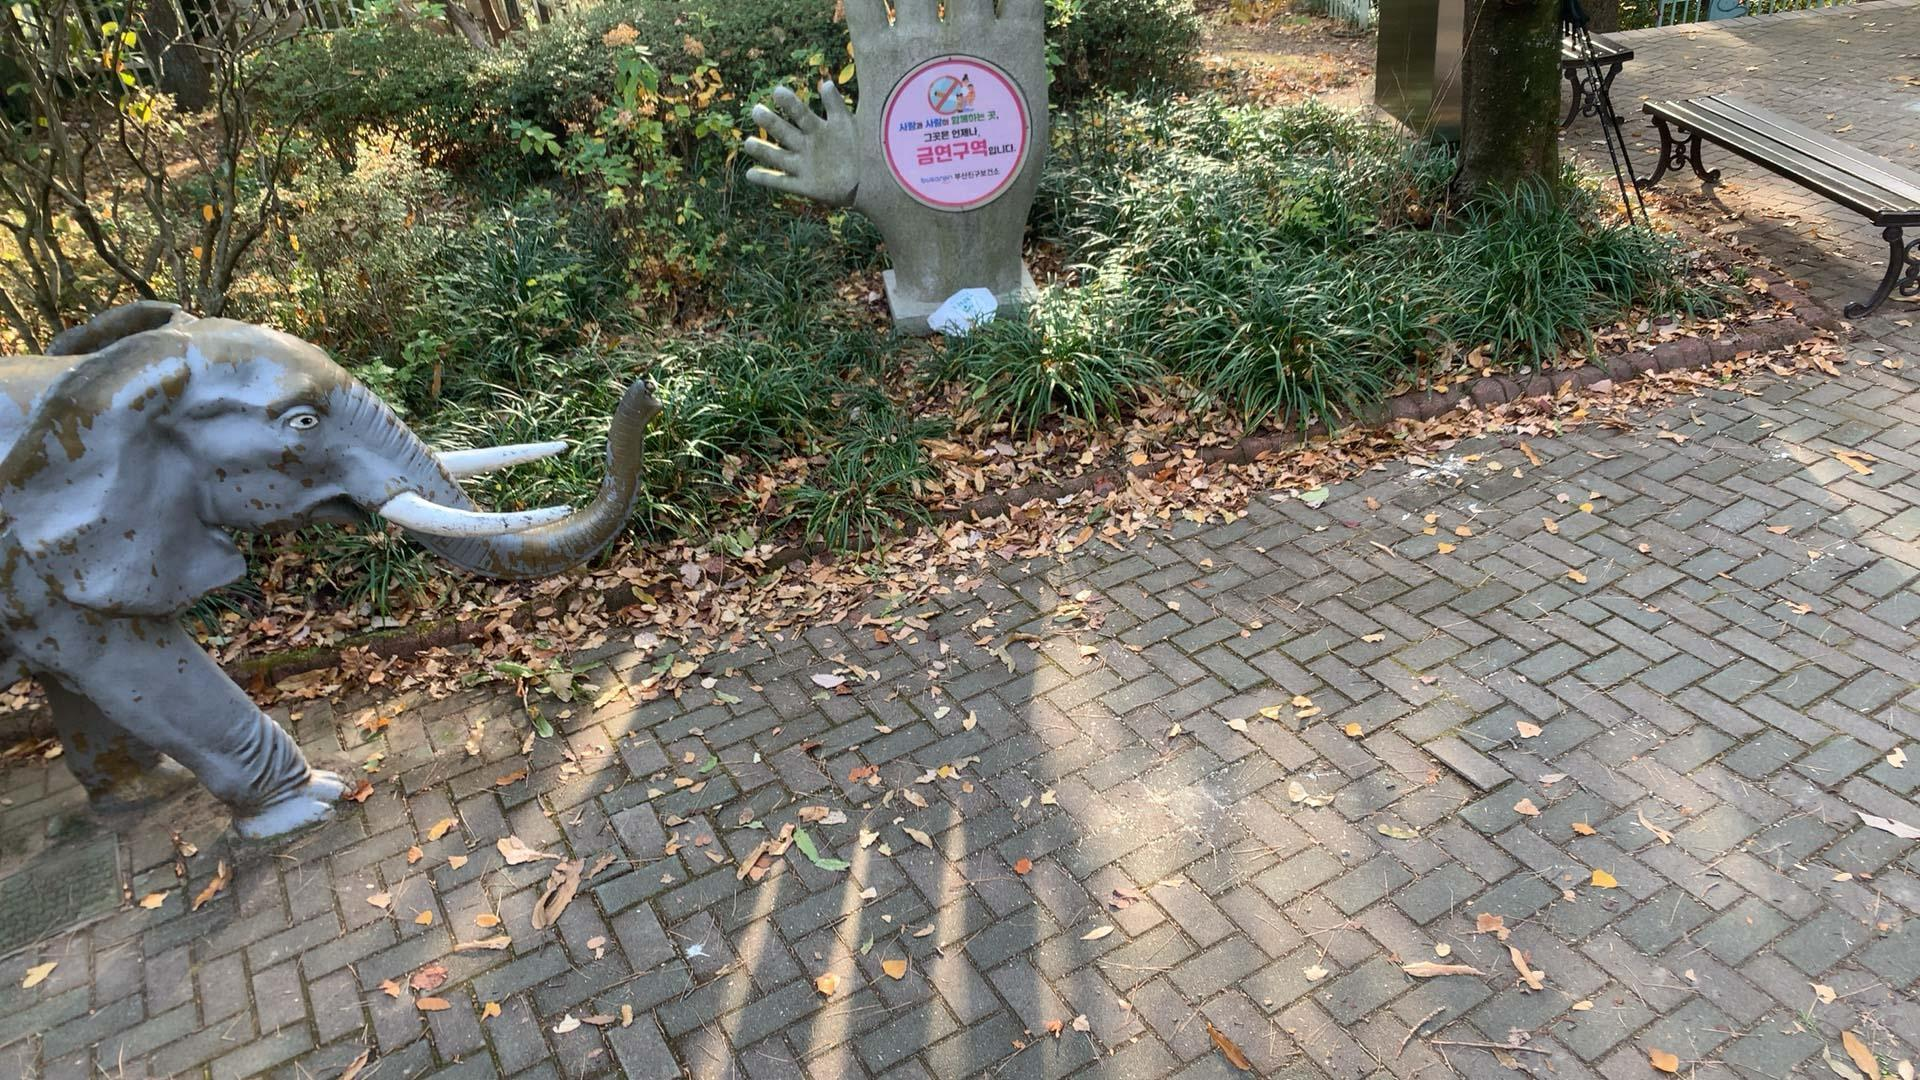white_bag: (920, 280, 1009, 344)
